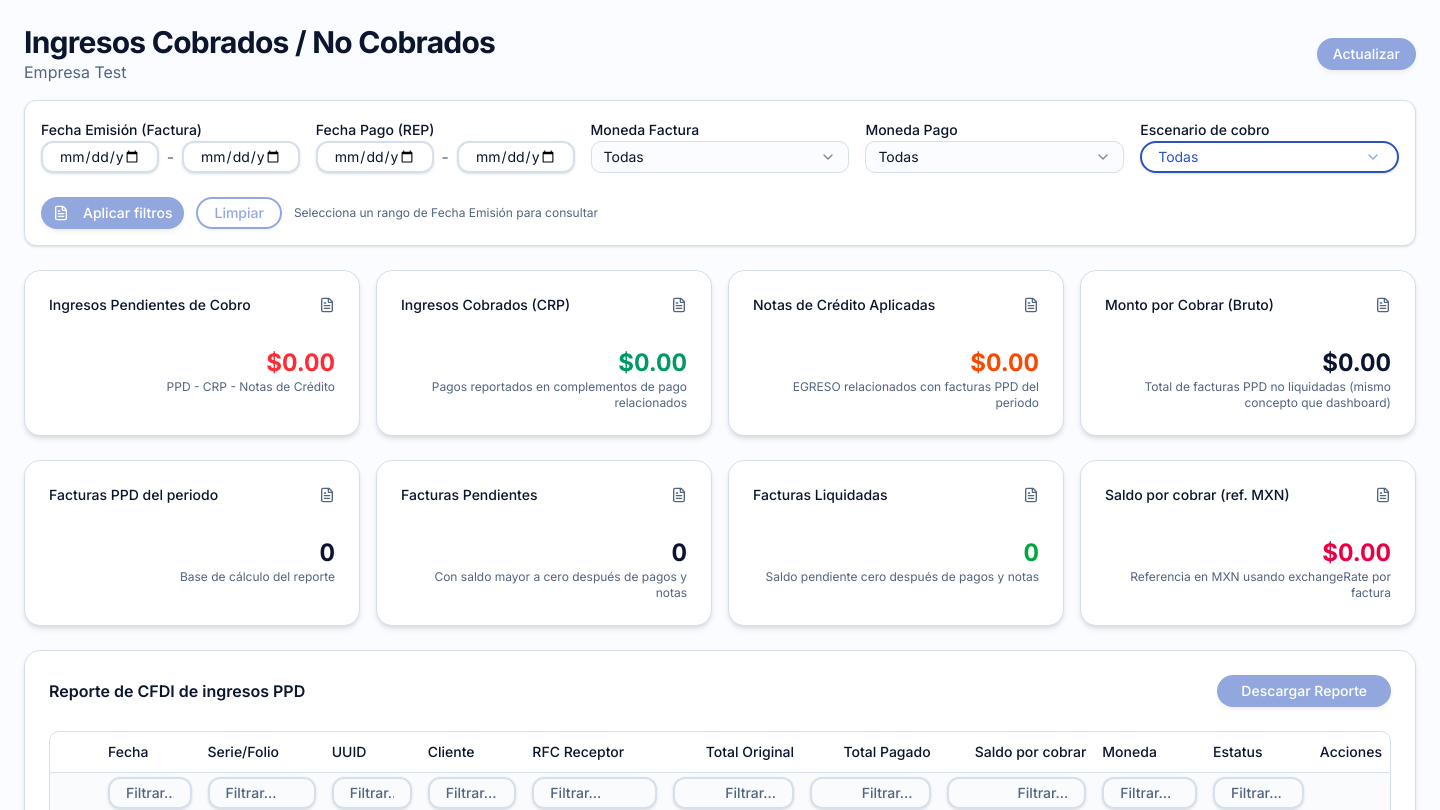
Test case: Ingresos Parciales (Pagos PPD) › 2. 💳 Validación de Tarjetas (KPIs) › Ingresos Pendientes de Cobro: refleja el Saldo Insoluto real
Expected: the heading "Ingresos Cobrados / No Cobrados" is shown, [24,24,495,60]
Step 1. Type "2026-07-01" into the 1st date field → (100, 157), box [41,141,159,173]
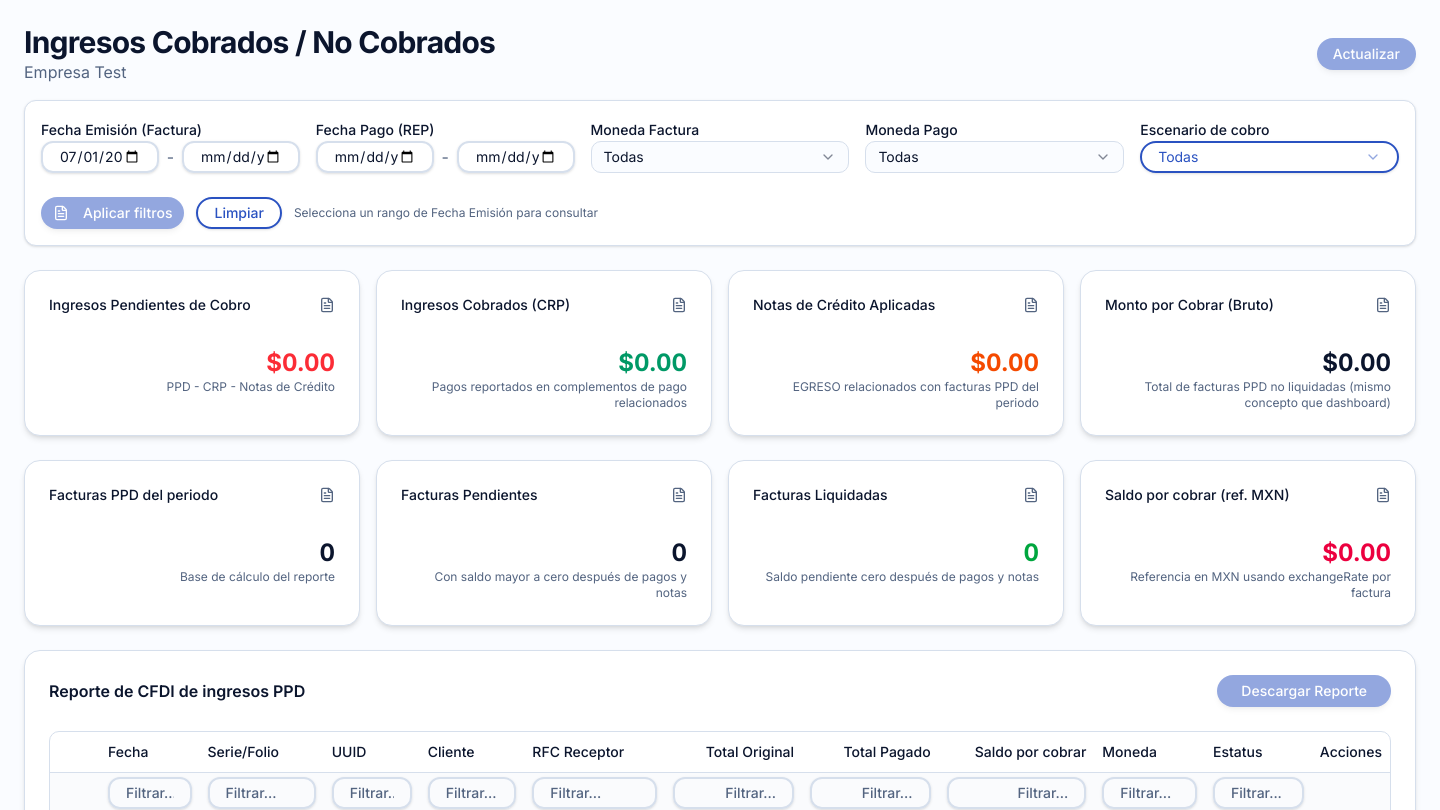
Step 2. Type "2026-07-31" into the 2nd date field → (241, 157), box [182,141,300,173]
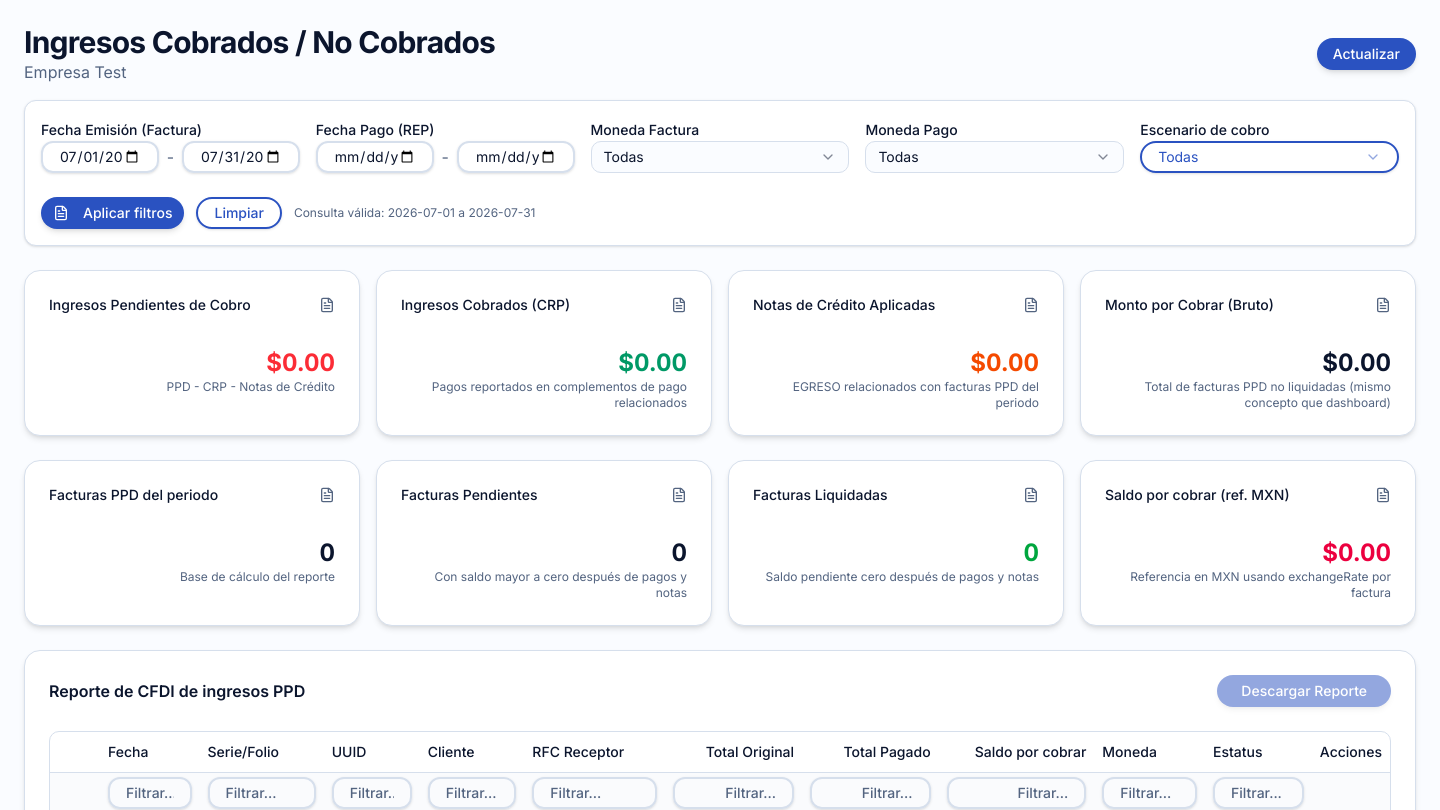
Step 3. Click the button "Aplicar filtros" → (113, 213), box [41,197,184,229]
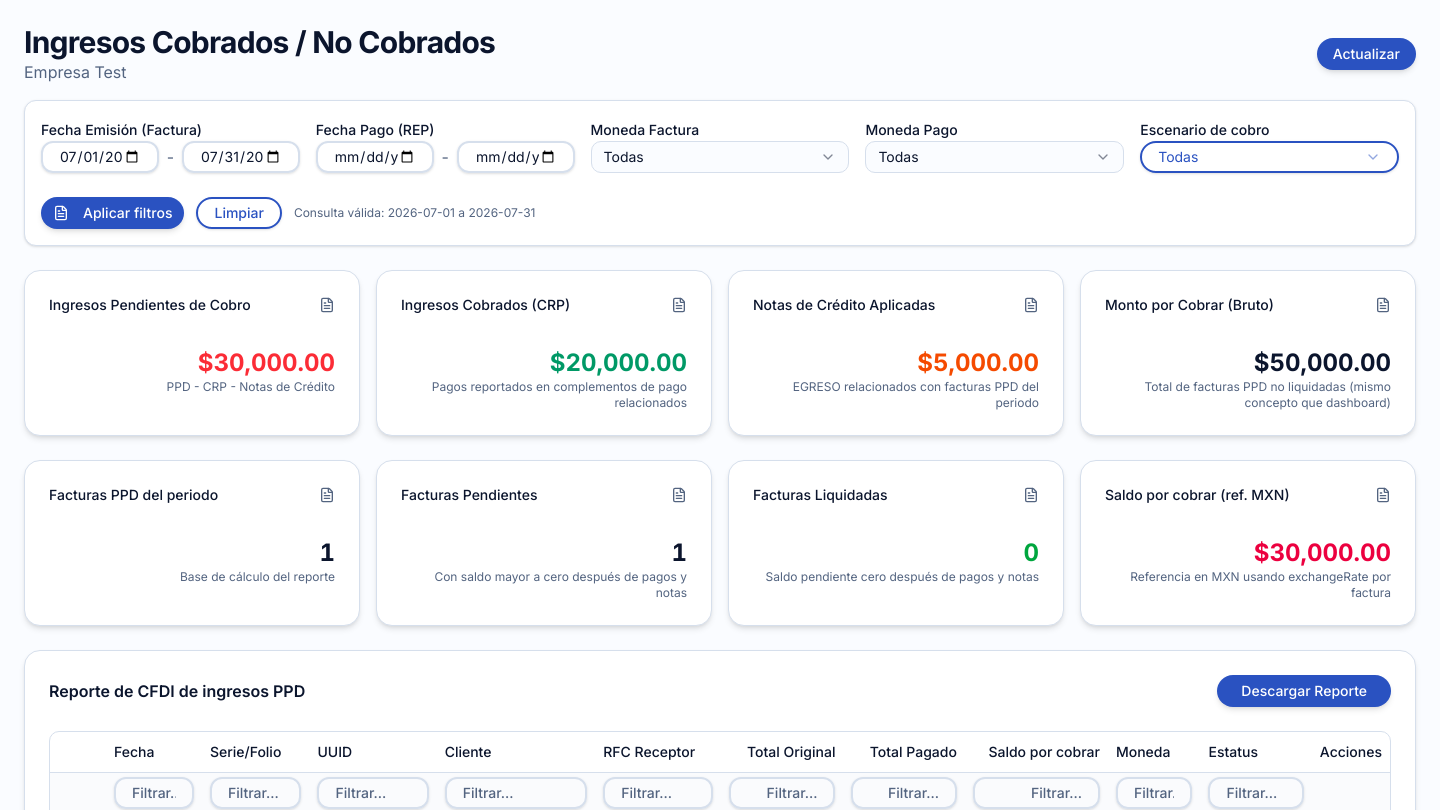
Now the text "$30,000.00" below "Ingresos Pendientes de Cobro" is shown, box [198,348,335,377]
